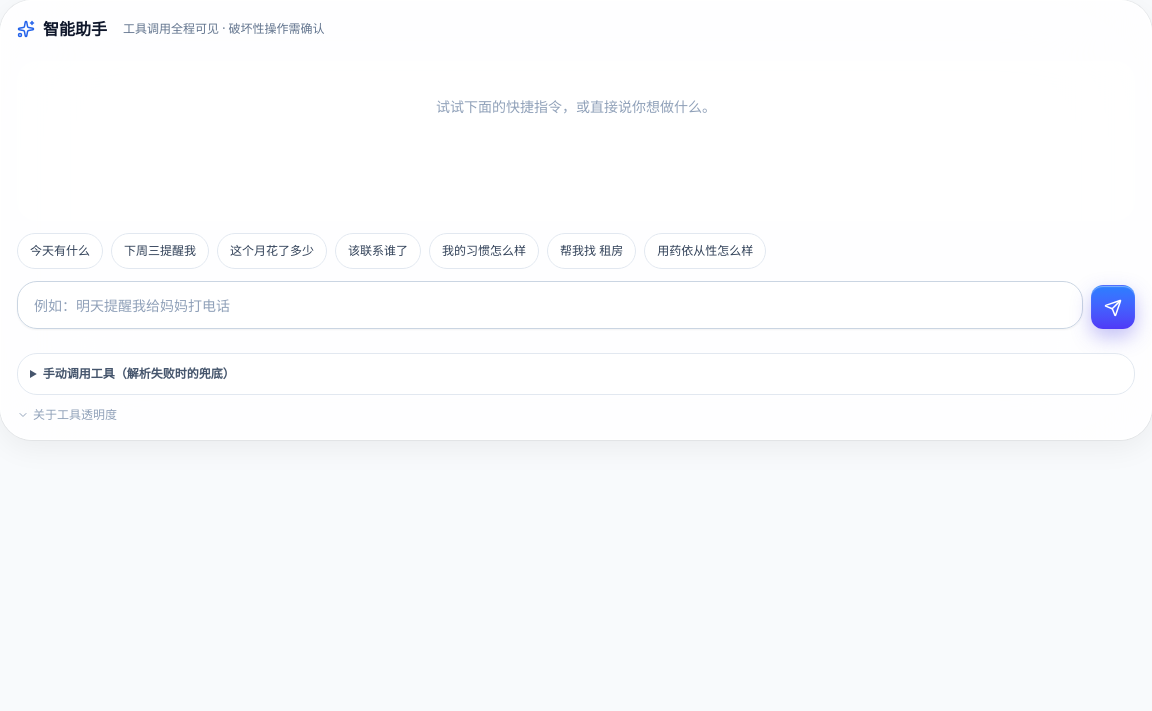
Test: AssistantPanel (checkbox 109) › renders the 410 confirmation_expired message, distinct from the 409 one
Type "删除事件 42" into the field with test id "assistant-input".
click(550, 305); type("删除事件 42")  # box 17,281 -> 1083,329
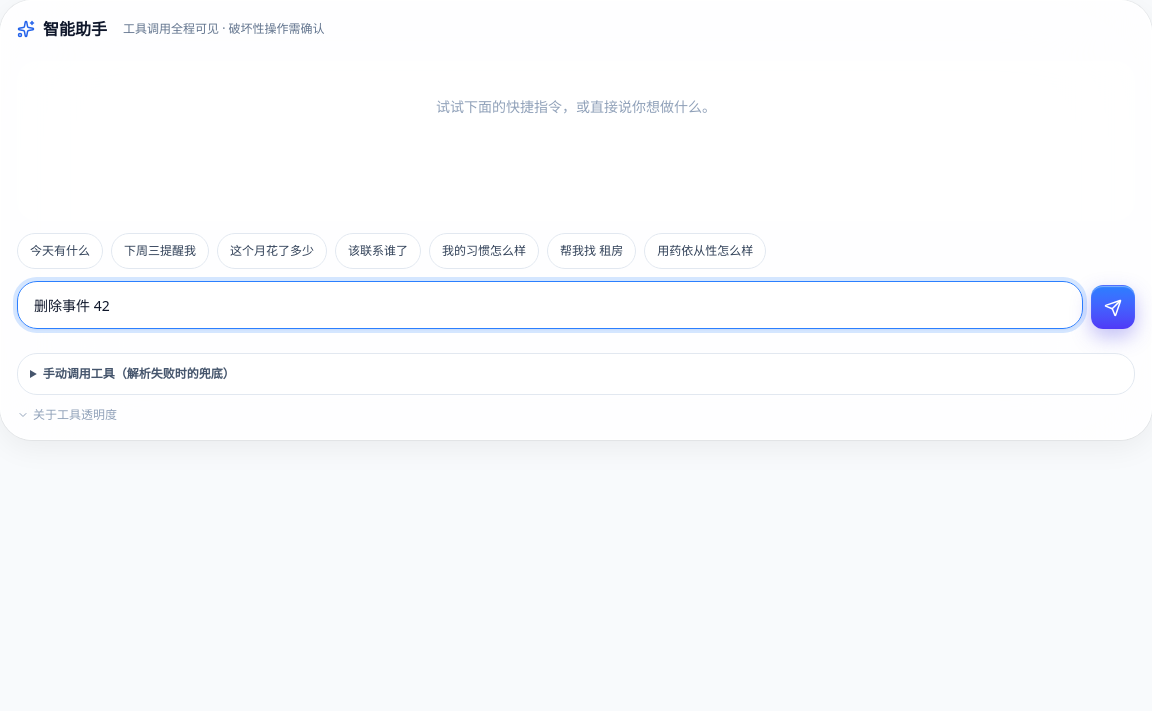
Click the button with test id "assistant-submit".
click(1113, 307)  # box 1091,285 -> 1135,329
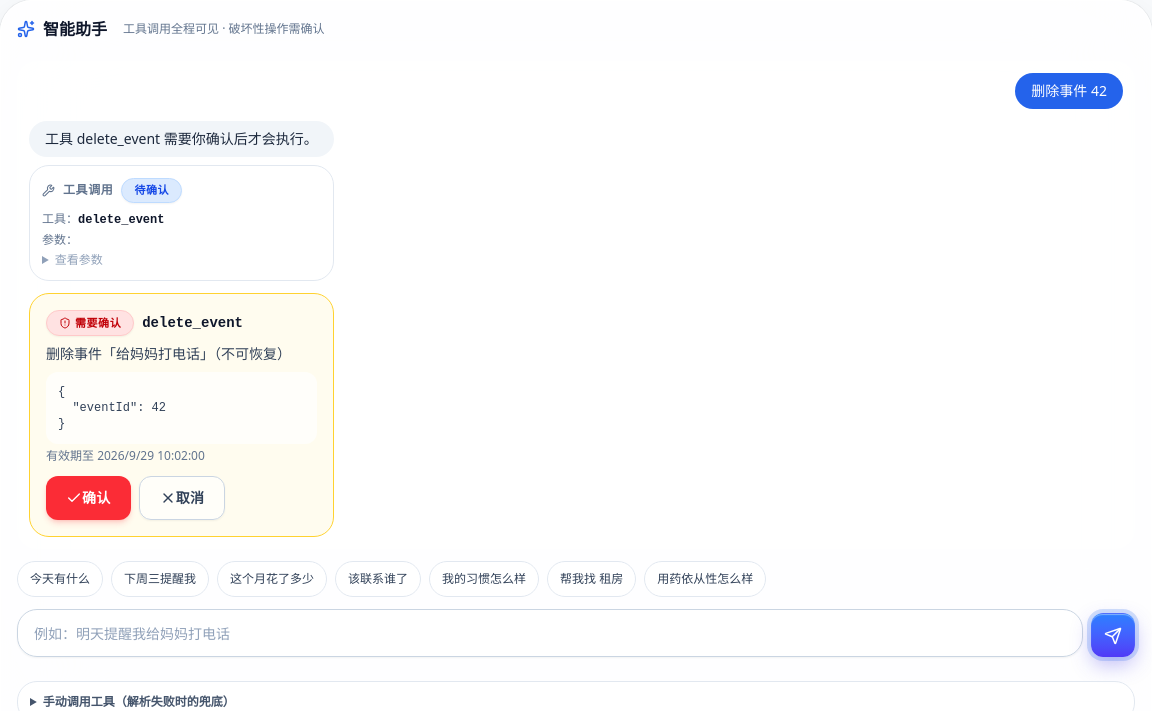
Now the element with test id "assistant-confirmation" is shown, box 29,293 -> 334,537
Click the button with test id "assistant-confirm".
click(88, 498)  # box 46,476 -> 131,520
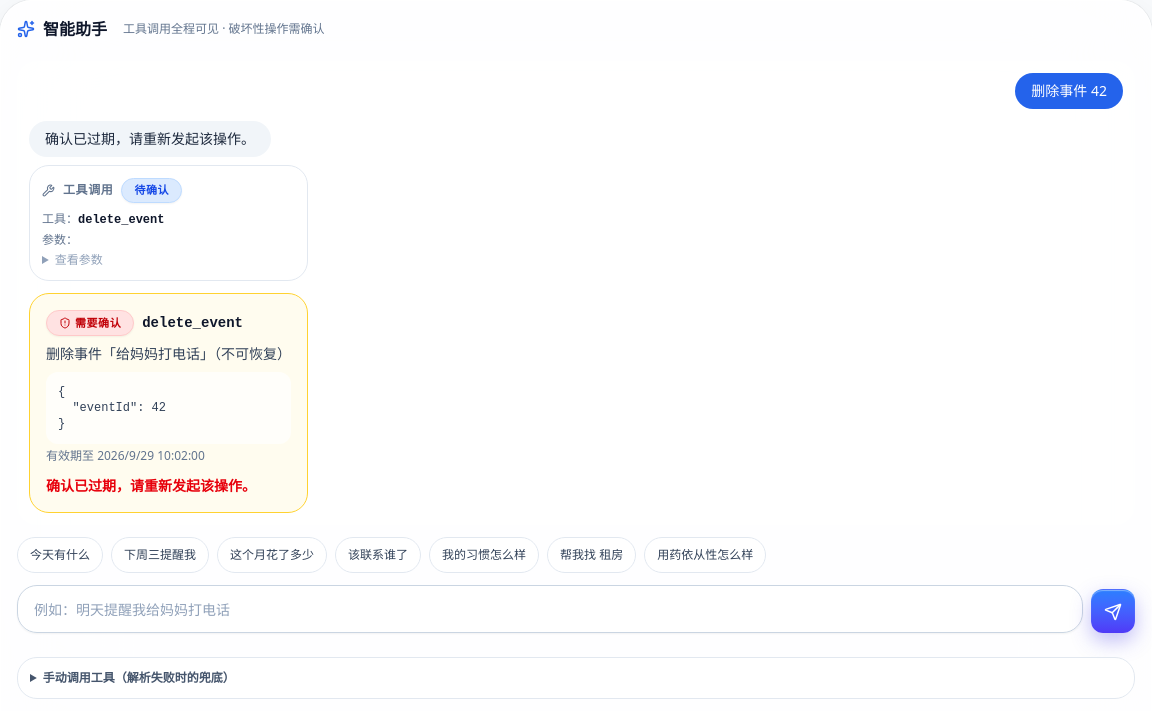
Now the message with test id "assistant-confirmation-error" reads "确认已过期，请重新发起该操作。", box 46,476 -> 256,495
